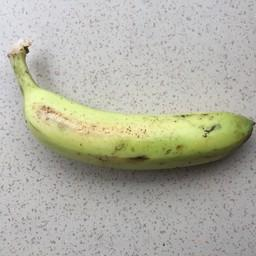Banana Ripe: (1, 75, 256, 194)
